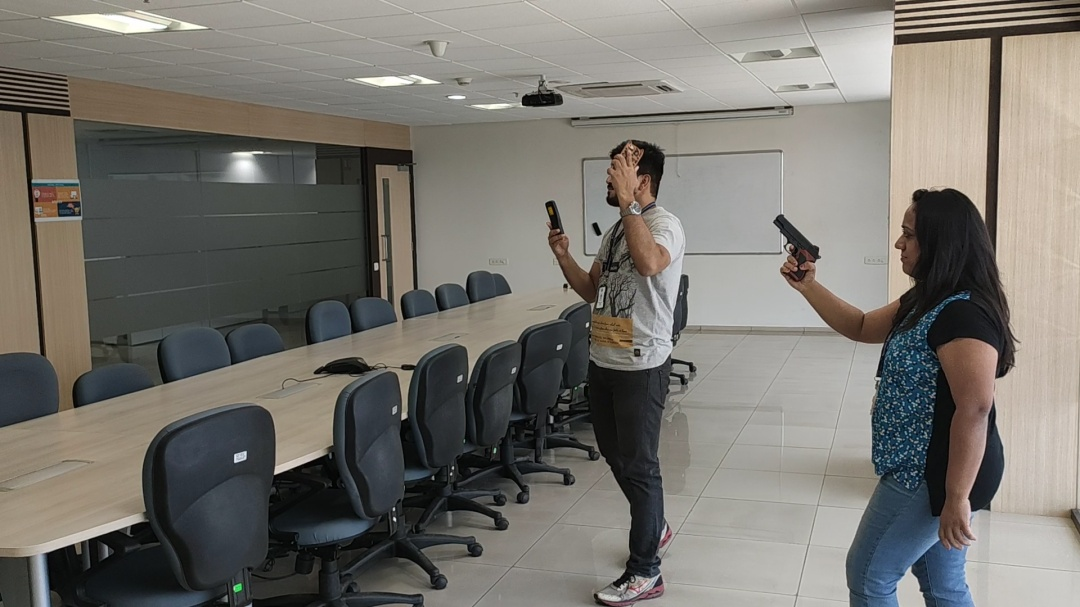gun: (773, 212, 822, 282)
